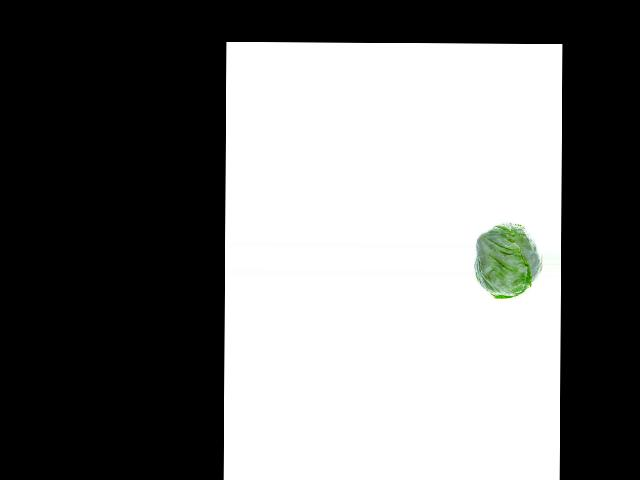lettuce: (477, 223, 541, 297)
